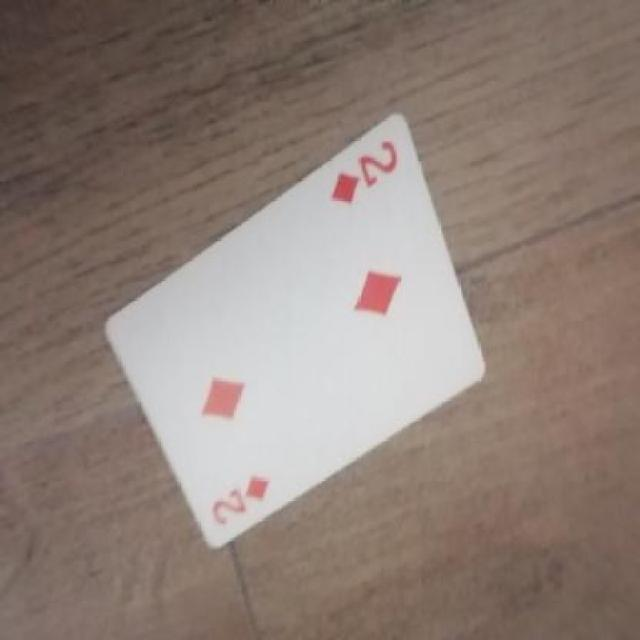2D: (187, 460, 293, 542), (325, 133, 413, 212)
